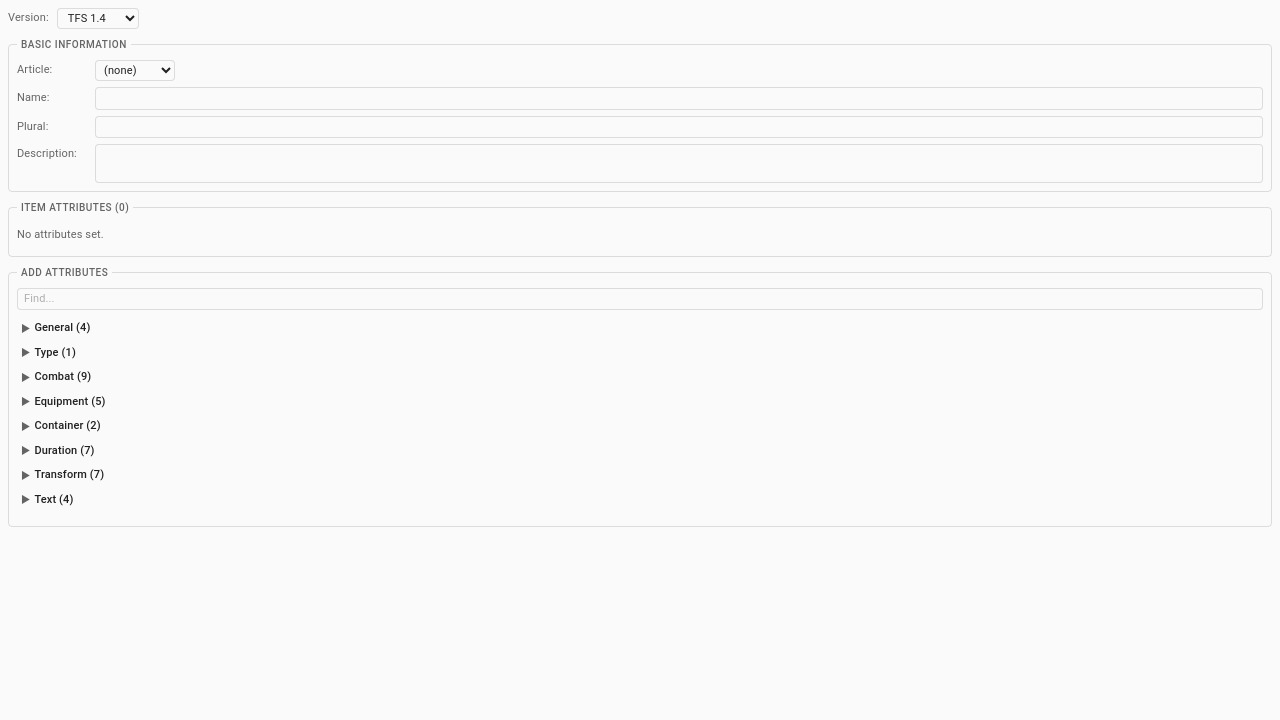
Test: AttributesEditor › search and add attributes › shows "No matching attributes" for no results
Type "xyznonexistent" into the field with test id "attr-search" at point(640, 299), box [17, 288, 1263, 310]
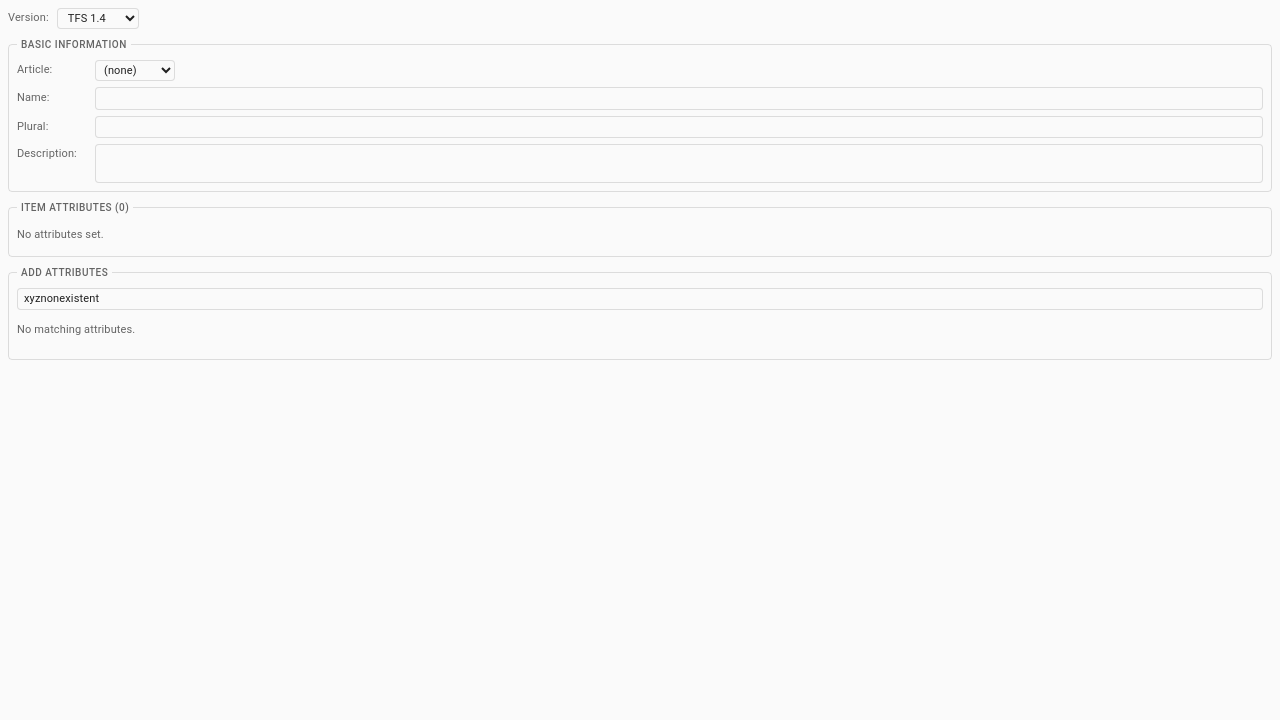
Check: the text "No matching attributes." is shown, box [17, 323, 135, 336]
